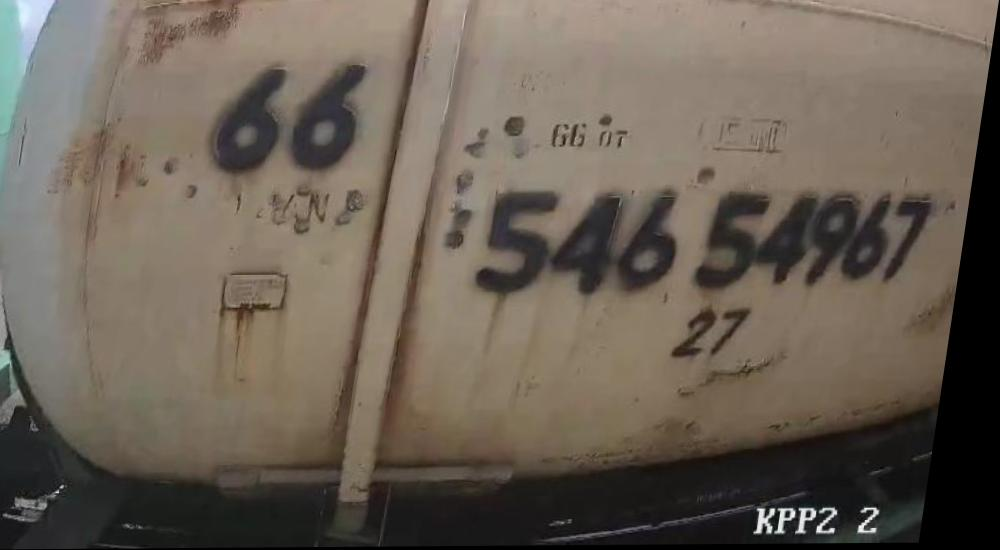Wagon-number: (474, 183, 949, 301)
